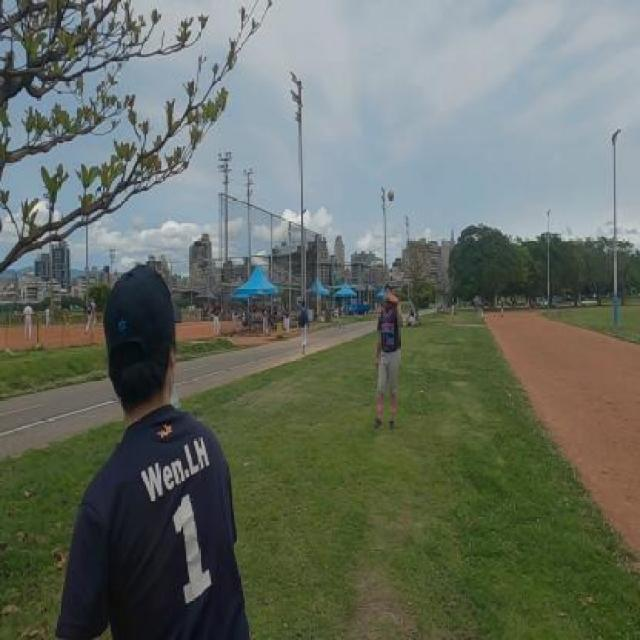baseball: (388, 190, 394, 201)
